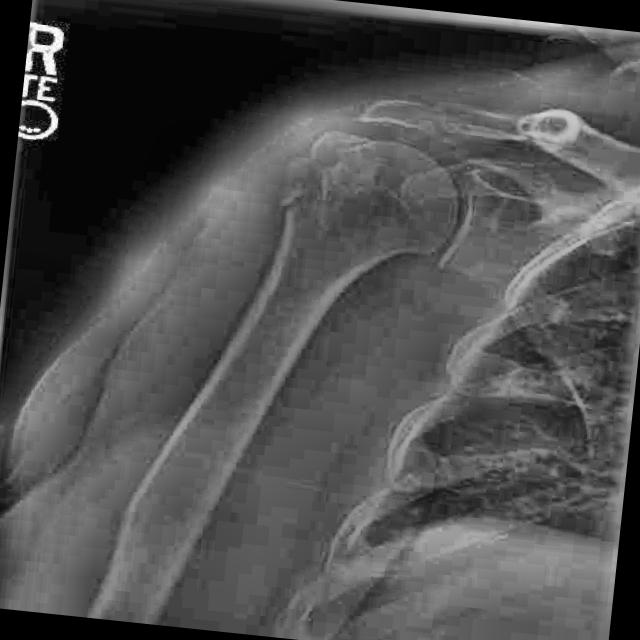shoulder fracture: (236, 114, 416, 250)
